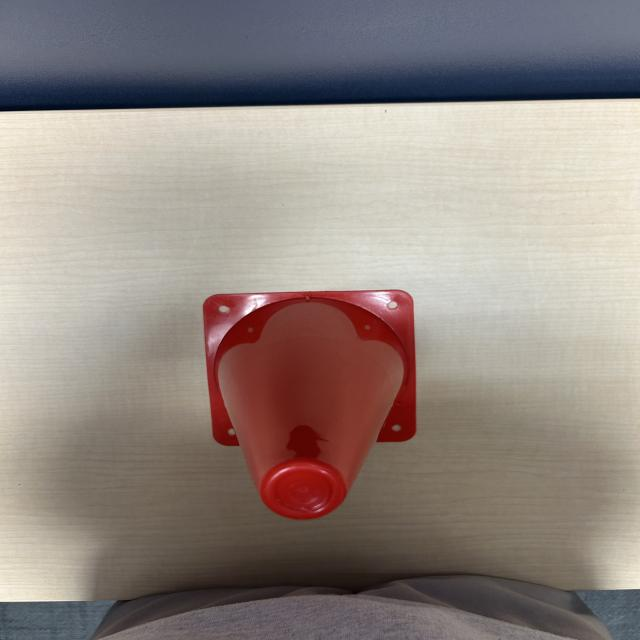orange cone: (195, 285, 426, 525)
